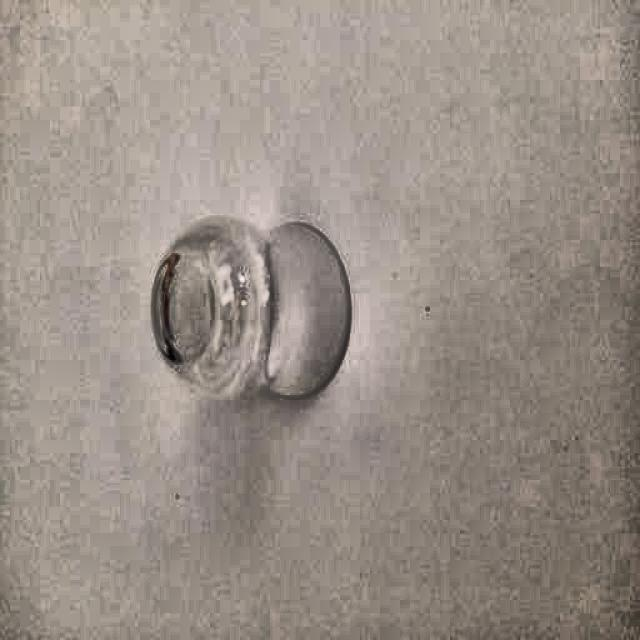glass: (147, 219, 357, 413)
